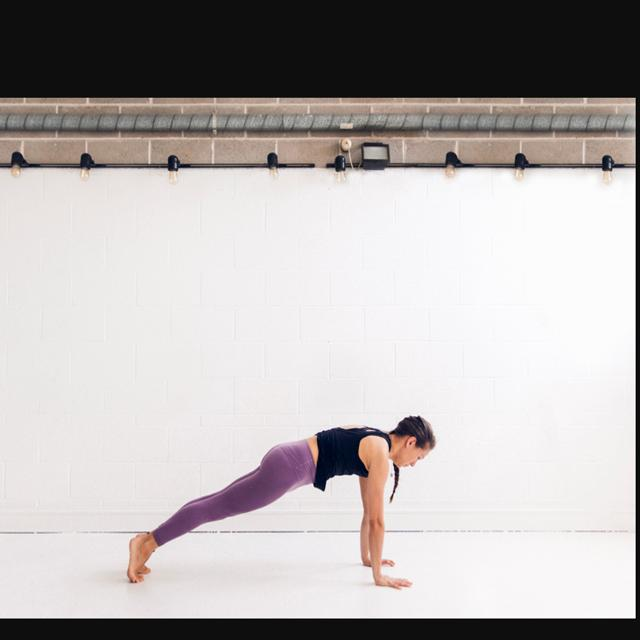Plank_Pose: (117, 408, 440, 593)
